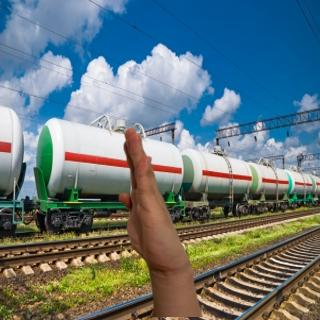RIGHT: (116, 127, 191, 273)
